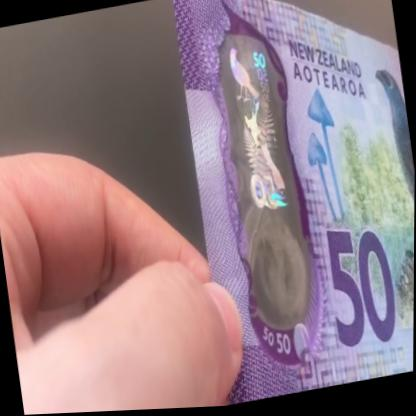50B: (222, 38, 305, 325)
